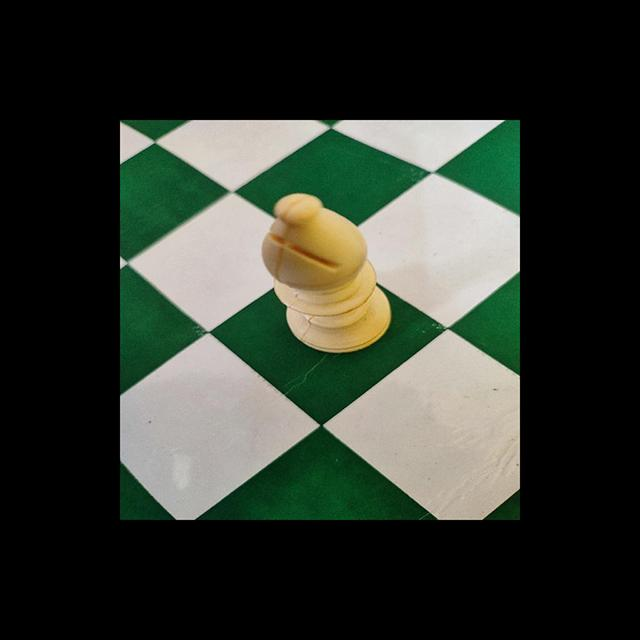white-bishop: (263, 192, 394, 352)
